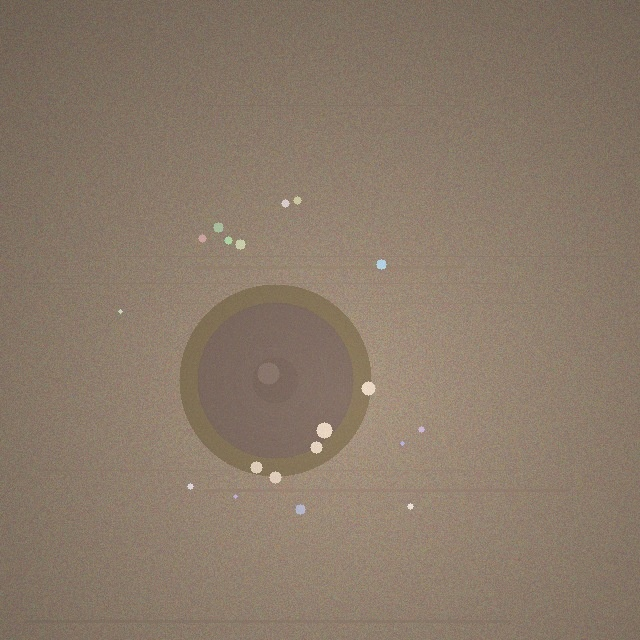overburn: (179, 284, 371, 476)
